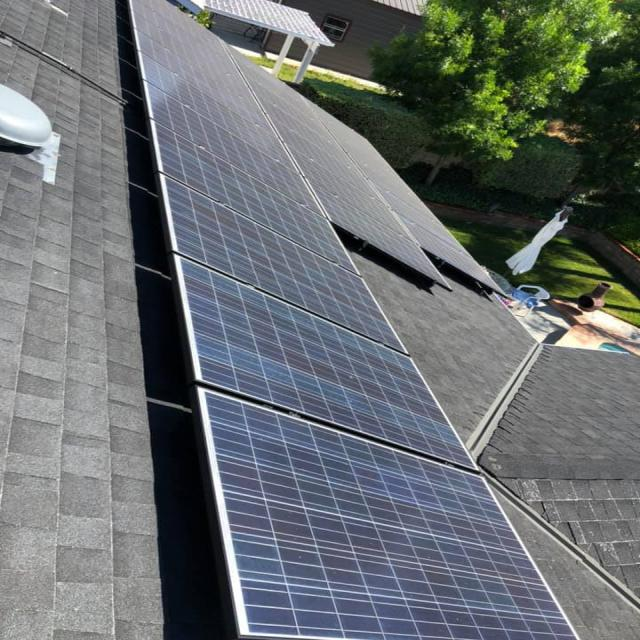dust-solar-panel: (123, 0, 514, 297)
